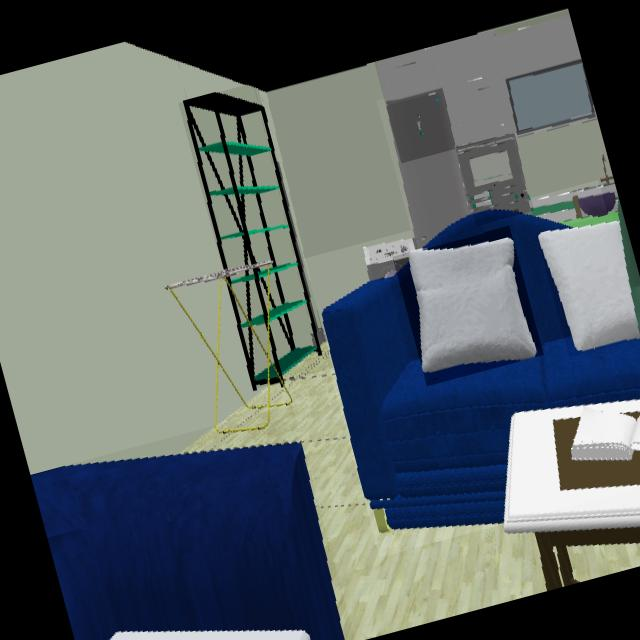cabinet: (375, 11, 593, 147)
fridge: (386, 87, 472, 249)
microwave: (458, 139, 532, 211)
pillow: (408, 237, 536, 372), (537, 221, 639, 352)
shelf: (188, 93, 318, 387)
sofa: (322, 210, 640, 530), (30, 443, 346, 640)
